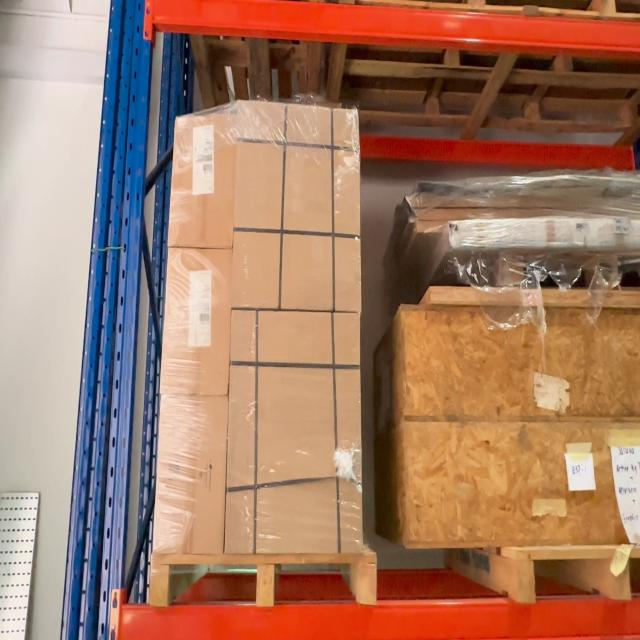box: (235, 310, 359, 548), (243, 106, 357, 310), (162, 402, 222, 548), (169, 253, 227, 394), (176, 118, 232, 250)
